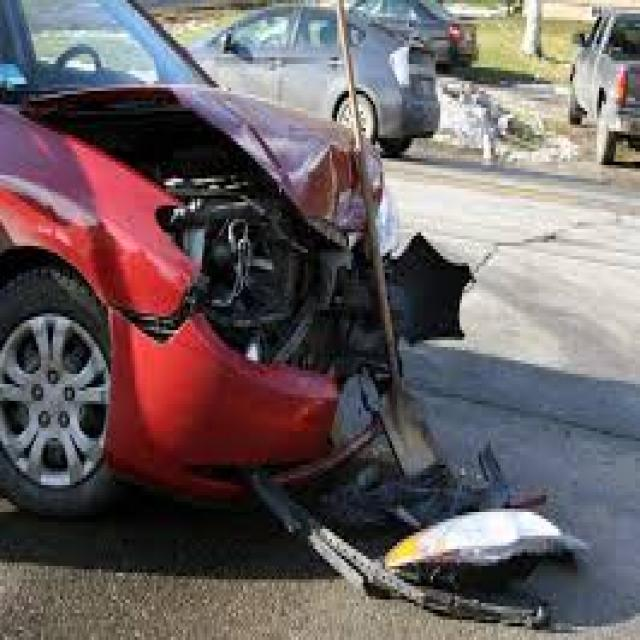severe: (42, 72, 505, 565)
